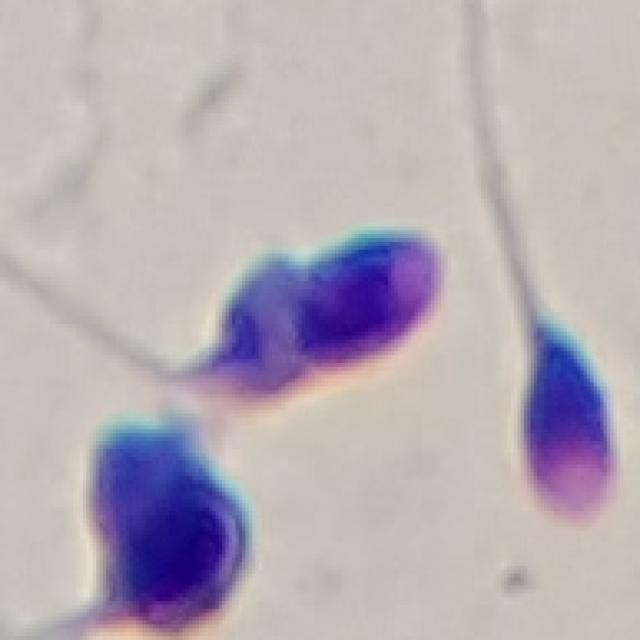abnormal sperm: (24, 222, 447, 410), (8, 420, 260, 639)
normal sperm: (480, 157, 620, 528)
